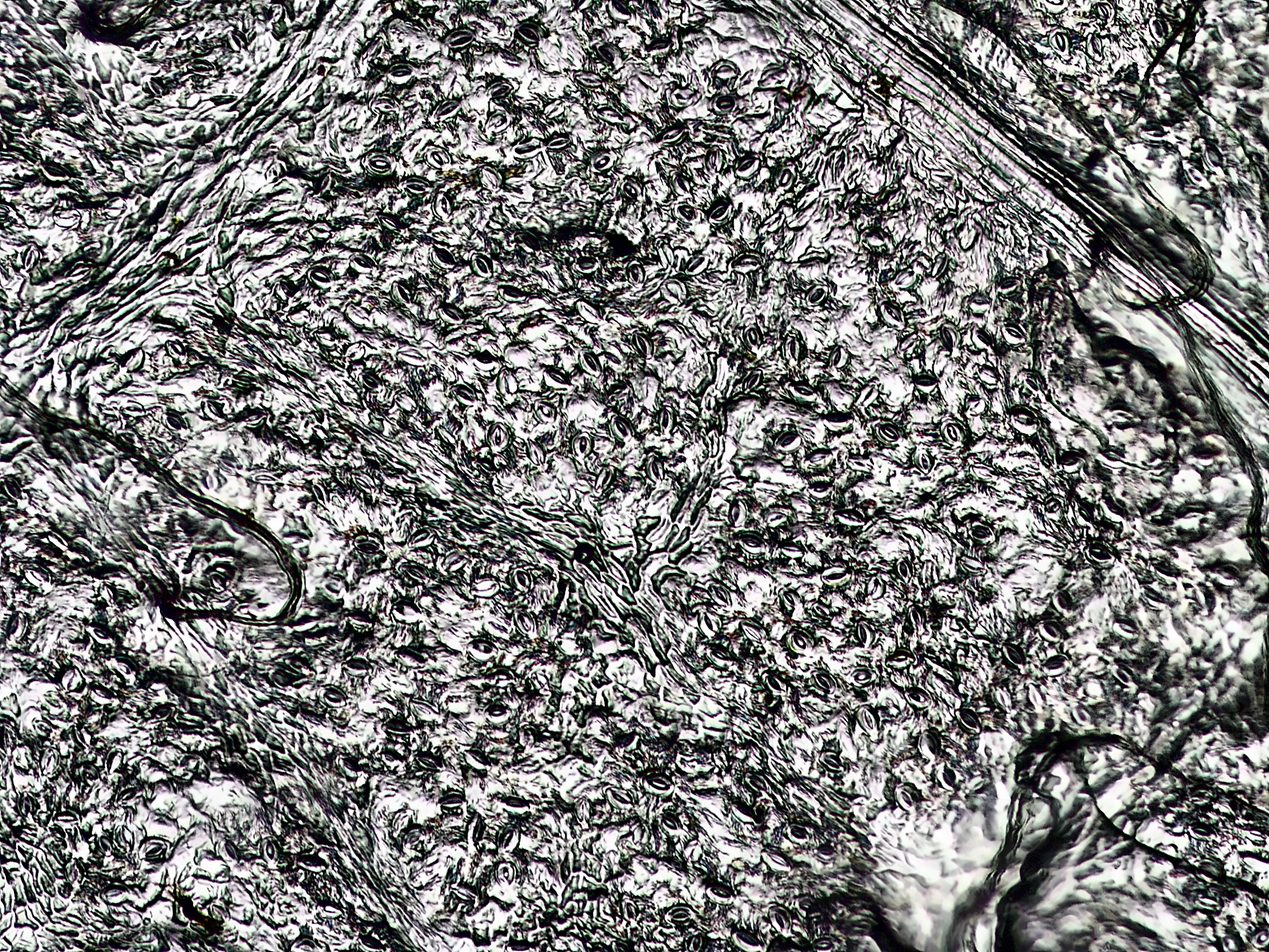stomata: (766, 903, 797, 937), (360, 150, 396, 175), (1008, 406, 1040, 434), (783, 626, 815, 654), (1016, 368, 1047, 396), (573, 298, 605, 325), (1082, 542, 1118, 565), (784, 382, 821, 404), (876, 300, 905, 328), (422, 144, 452, 171), (486, 421, 512, 452), (512, 608, 538, 639), (733, 533, 768, 556), (440, 548, 472, 573), (641, 772, 677, 794), (304, 266, 334, 292), (1000, 640, 1026, 670), (21, 565, 51, 591), (394, 645, 426, 669), (4, 609, 27, 642), (762, 848, 792, 873), (463, 638, 497, 660), (409, 700, 440, 724), (604, 787, 635, 811), (856, 705, 879, 737), (917, 729, 941, 759), (821, 565, 855, 586), (466, 811, 487, 845), (938, 321, 961, 352), (873, 422, 904, 445), (495, 366, 518, 397), (469, 575, 500, 598), (392, 600, 423, 623), (781, 333, 803, 365), (259, 836, 281, 868), (608, 414, 634, 441), (954, 707, 981, 733), (495, 824, 520, 852), (353, 533, 386, 554), (1047, 28, 1070, 58), (773, 430, 803, 453), (904, 685, 934, 708), (338, 658, 374, 677), (345, 613, 376, 635), (940, 418, 966, 444), (59, 665, 84, 692), (686, 248, 710, 276), (661, 276, 685, 304), (482, 701, 514, 722), (501, 795, 533, 816), (83, 624, 115, 645), (431, 190, 454, 219), (461, 748, 490, 771), (495, 859, 518, 888), (435, 303, 465, 325), (446, 27, 476, 49), (200, 396, 225, 422), (771, 163, 796, 189), (911, 447, 936, 473), (507, 566, 532, 592), (430, 245, 457, 269), (469, 251, 493, 278), (478, 166, 502, 193), (809, 668, 836, 692), (577, 352, 604, 376), (737, 621, 764, 645), (349, 253, 379, 274), (376, 213, 406, 234), (397, 177, 432, 195), (1056, 453, 1086, 474), (884, 649, 914, 670), (644, 36, 677, 55), (857, 381, 881, 407), (120, 346, 143, 373), (390, 279, 413, 306), (697, 609, 720, 636), (760, 671, 787, 694), (496, 285, 527, 305), (805, 479, 836, 499), (1109, 619, 1140, 639), (541, 367, 572, 387), (893, 784, 915, 812), (20, 243, 41, 272), (433, 99, 462, 120), (185, 59, 217, 78), (399, 562, 429, 582), (344, 302, 369, 326), (515, 22, 541, 45), (803, 284, 829, 307), (729, 801, 755, 824), (590, 150, 617, 172), (734, 156, 761, 178), (704, 884, 735, 903), (625, 259, 646, 287), (1084, 32, 1105, 60), (88, 684, 116, 705), (408, 527, 437, 547), (732, 255, 764, 273), (1050, 590, 1074, 614), (1038, 619, 1062, 643), (451, 383, 475, 407), (321, 685, 346, 708), (359, 371, 385, 393), (631, 331, 653, 357), (660, 812, 686, 834), (659, 125, 689, 144), (804, 447, 834, 466), (295, 854, 325, 873), (817, 750, 844, 771), (967, 523, 995, 543), (1042, 654, 1070, 674), (525, 436, 545, 464), (414, 753, 442, 773), (389, 60, 413, 83), (708, 201, 732, 224), (827, 345, 851, 368), (513, 139, 542, 158), (912, 371, 938, 392), (832, 510, 866, 526), (958, 554, 985, 574), (706, 644, 733, 664), (1000, 325, 1028, 344), (996, 275, 1024, 294), (572, 796, 591, 824), (712, 92, 735, 115), (900, 332, 923, 355), (707, 584, 731, 606), (745, 771, 769, 793), (974, 365, 999, 386), (487, 81, 516, 99), (906, 604, 925, 631), (41, 747, 60, 774), (573, 70, 603, 87), (893, 267, 917, 288), (855, 619, 873, 647), (728, 498, 746, 526), (778, 542, 806, 560), (239, 409, 267, 427), (286, 306, 310, 327), (744, 366, 763, 392), (645, 453, 664, 479), (764, 509, 790, 528), (657, 404, 674, 433), (848, 667, 875, 685), (438, 791, 465, 809), (225, 30, 247, 52), (573, 431, 595, 453), (598, 42, 621, 63), (162, 339, 186, 359), (574, 254, 598, 274), (450, 884, 478, 901), (705, 145, 723, 171), (973, 328, 994, 350), (533, 399, 556, 419), (309, 221, 332, 241), (786, 824, 809, 844), (18, 790, 35, 817), (106, 748, 124, 773), (544, 135, 572, 151), (866, 575, 886, 597), (893, 559, 913, 580), (345, 340, 366, 360), (357, 937, 385, 952), (621, 178, 640, 200), (119, 402, 145, 418), (102, 885, 128, 901), (814, 843, 838, 860), (621, 898, 638, 922), (52, 811, 81, 825), (672, 176, 691, 197), (779, 588, 797, 610), (677, 204, 698, 222), (744, 326, 762, 347), (142, 842, 166, 857), (1096, 1, 1113, 22), (313, 331, 335, 347), (668, 907, 692, 921)
